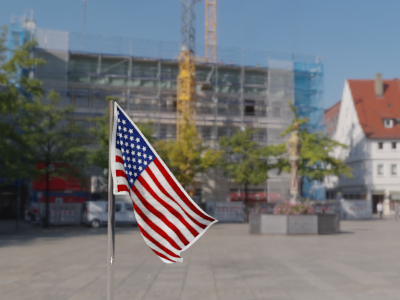America flag: (112, 100, 219, 266)
